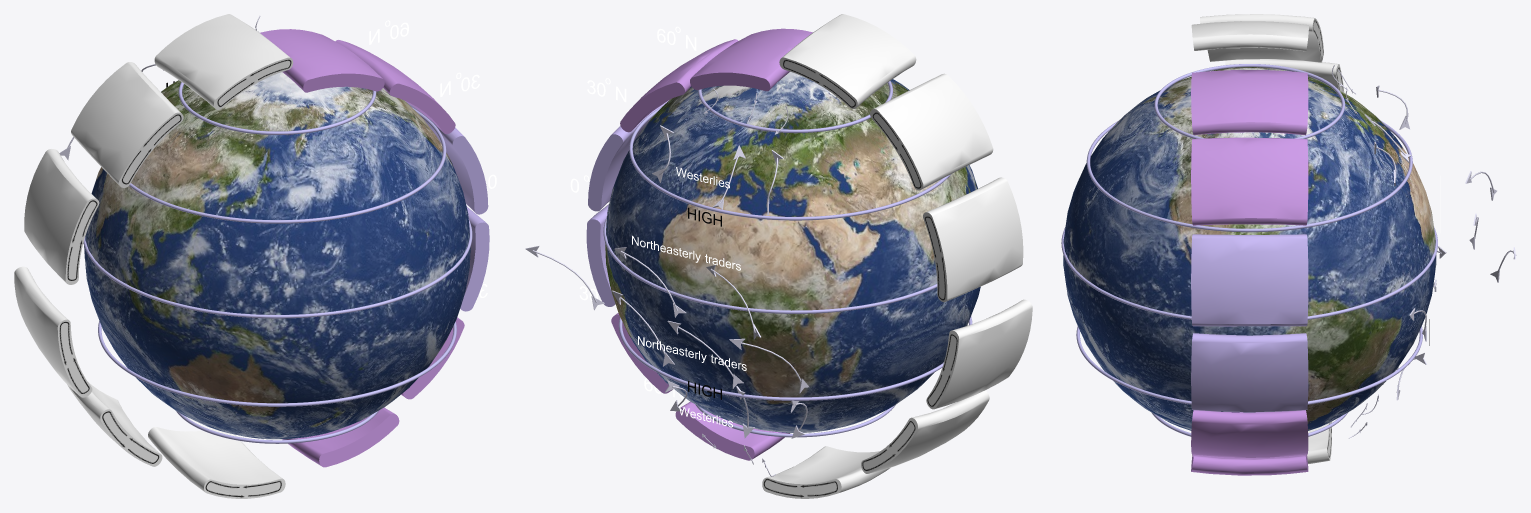
File: ipcc.glb
The picture shows the model from 3 angles, left to right: view 1: azimuth 30°, elevation 25°; view 2: azimuth 150°, elevation 25°; view 3: azimuth 270°, elevation 25°; orthographic projection. The views are drawn at different scales.
Visible parts, largest first — view 1: EArth, Shape018, Shape017, Divider, Shape019, Shape022, Polar_cell, Shape020, Polar_cell_12_-_Default_0_1, Shape021, Mid-latitude_cell_12_-_Default_0_1, Hadley_cell_10_-_Default_0_1 (+2 smaller); view 2: EArth, Shape019, Shape018, Shape017, Divider, Shape020, Polar_cell, Shape021, Shape022, Polar_cell_12_-_Default_0_1, Mid-latitude_cell_12_-_Default_0_1, Hadley_cell_10_-_Default_0_1 (+3 smaller); view 3: EArth, Hadley_cell_10_-_Default_0_1, Mid-latitude_cell_12_-_Default_0_1, Hadley_cell, Polar_cell, Divider, Mid-latitude_cell, Shape017, Shape018, Polar_cell_12_-_Default_0_1, Shape019, Shape022.
Boxes of the visible parts, <box> form: EArth: <box>84,72,470,439</box>; Shape018: <box>71,62,183,187</box>; Shape017: <box>154,14,293,109</box>; Divider: <box>83,82,472,443</box>; Shape019: <box>24,149,99,284</box>; Shape022: <box>148,427,285,498</box>; Polar_cell: <box>260,29,384,92</box>; Shape020: <box>14,266,92,397</box>; Polar_cell_12_-_Default_0_1: <box>282,407,399,467</box>; Shape021: <box>67,382,162,466</box>; Mid-latitude_cell_12_-_Default_0_1: <box>335,40,455,134</box>; Hadley_cell_10_-_Default_0_1: <box>406,101,488,214</box>; EArth: <box>605,72,980,432</box>; Shape019: <box>923,177,1023,302</box>; Shape018: <box>870,73,993,190</box>; Shape017: <box>779,14,916,108</box>; Divider: <box>603,81,972,437</box>; Shape020: <box>926,299,1032,409</box>; Polar_cell: <box>690,28,812,91</box>; Shape021: <box>861,390,989,473</box>; Shape022: <box>762,446,889,498</box>; Polar_cell_12_-_Default_0_1: <box>675,401,789,460</box>; Mid-latitude_cell_12_-_Default_0_1: <box>620,39,738,132</box>; Hadley_cell_10_-_Default_0_1: <box>588,100,668,211</box>; EArth: <box>1063,67,1436,430</box>; Hadley_cell_10_-_Default_0_1: <box>1191,234,1308,326</box>; Mid-latitude_cell_12_-_Default_0_1: <box>1191,137,1308,225</box>; Hadley_cell: <box>1191,333,1308,412</box>; Polar_cell: <box>1191,70,1308,135</box>; Divider: <box>1061,64,1437,436</box>; Mid-latitude_cell: <box>1191,410,1308,457</box>; Shape017: <box>1191,21,1308,51</box>; Shape018: <box>1200,14,1323,62</box>; Polar_cell_12_-_Default_0_1: <box>1191,454,1308,475</box>; Shape019: <box>1225,59,1344,92</box>; Shape022: <box>1307,422,1331,463</box>.
Bounding box in the file's own units: 144 × 136 × 130.
Materials: 14 (2 with a texture image).
